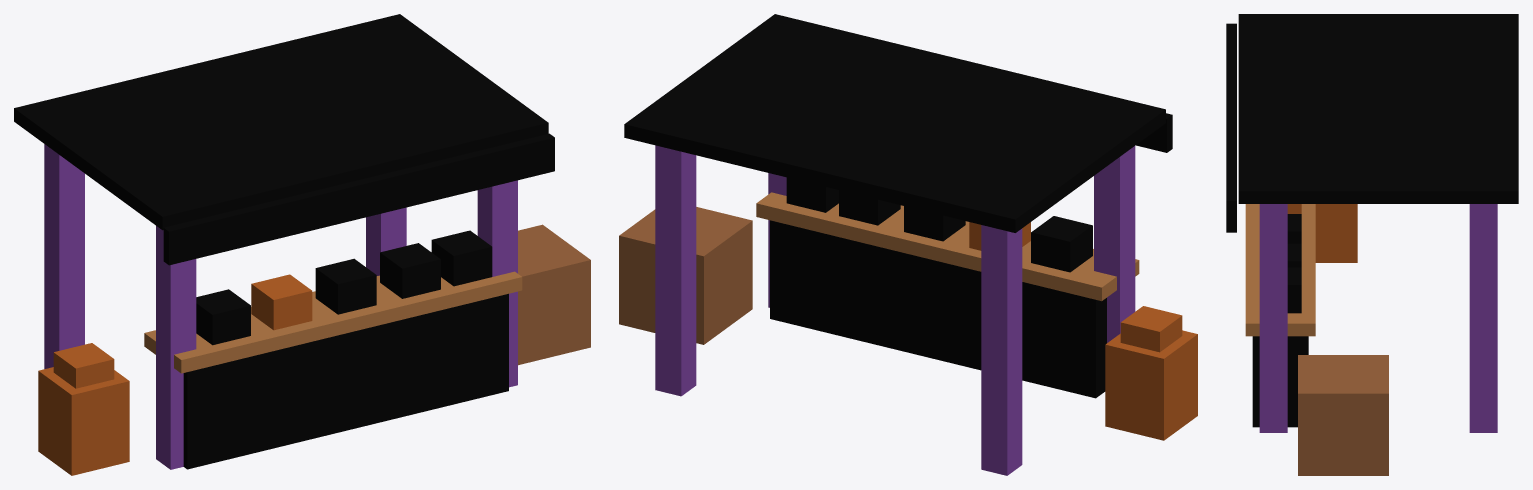
The model's file is DesertStall.obj.
3 views of the same model, side by side, from view 1: azimuth 30°, elevation 25°; view 2: azimuth 150°, elevation 25°; view 3: azimuth 270°, elevation 25° (orthographic). The views are drawn at different scales.
Parts seen in each view (by area): view 1: DesertStall; view 2: DesertStall; view 3: DesertStall.
Part boxes in pixels (x1,y1,x2,y2): DesertStall: [14, 14, 590, 475]; DesertStall: [619, 14, 1197, 475]; DesertStall: [1226, 14, 1518, 475].
Size of the model in its own units: 16.2 by 7.9 by 8.35.
